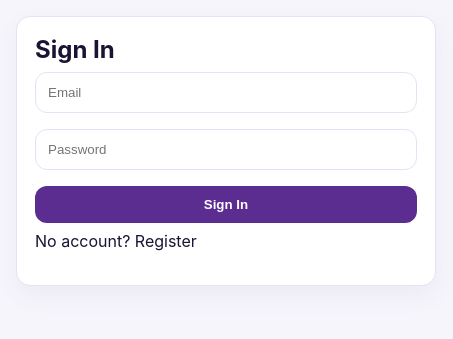
Scenario: Login Component › shows specific error for user not found
Type "john@example.com" into the field with placeholder "Email" at [226, 92], box [35,72,417,113]
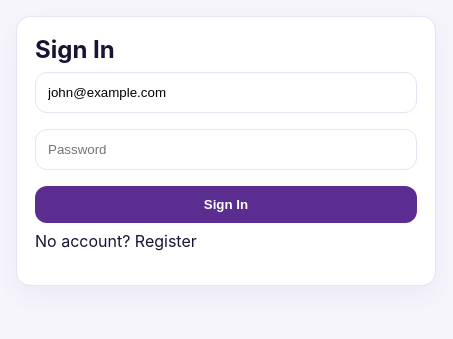
Type "password123" into the password field with placeholder "Password" at [226, 150], box [35,129,417,170]
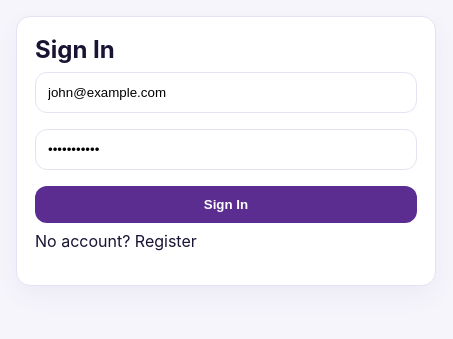
Submit the form, box [35,72,417,223]
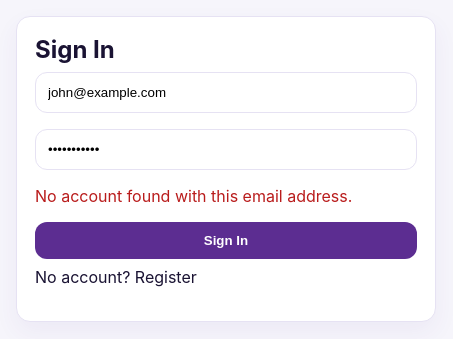
Expected: the text "No account found with this email address." is shown, [35,186,352,206]
